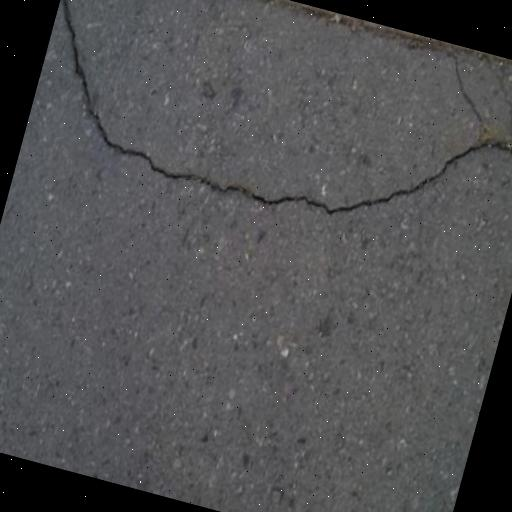spalling: (54, 0, 512, 228)
